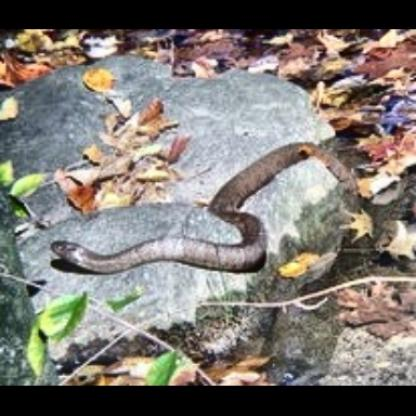Snake: (48, 141, 336, 282)
